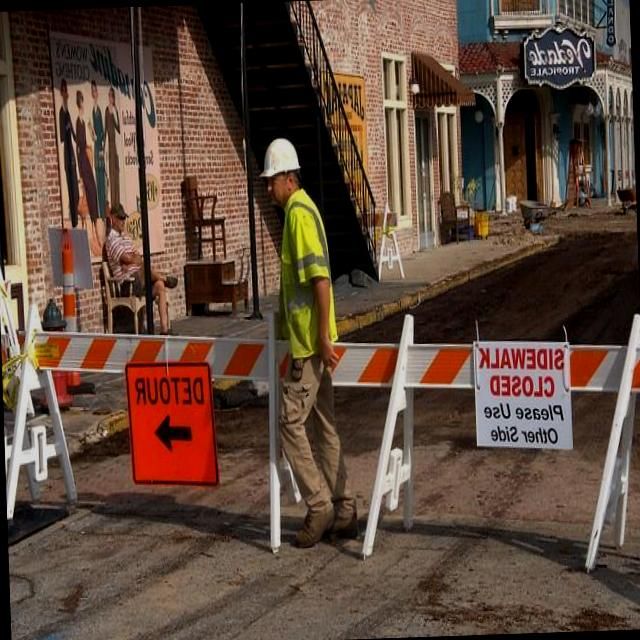helmet: (255, 134, 302, 181)
vest: (274, 181, 340, 364)
